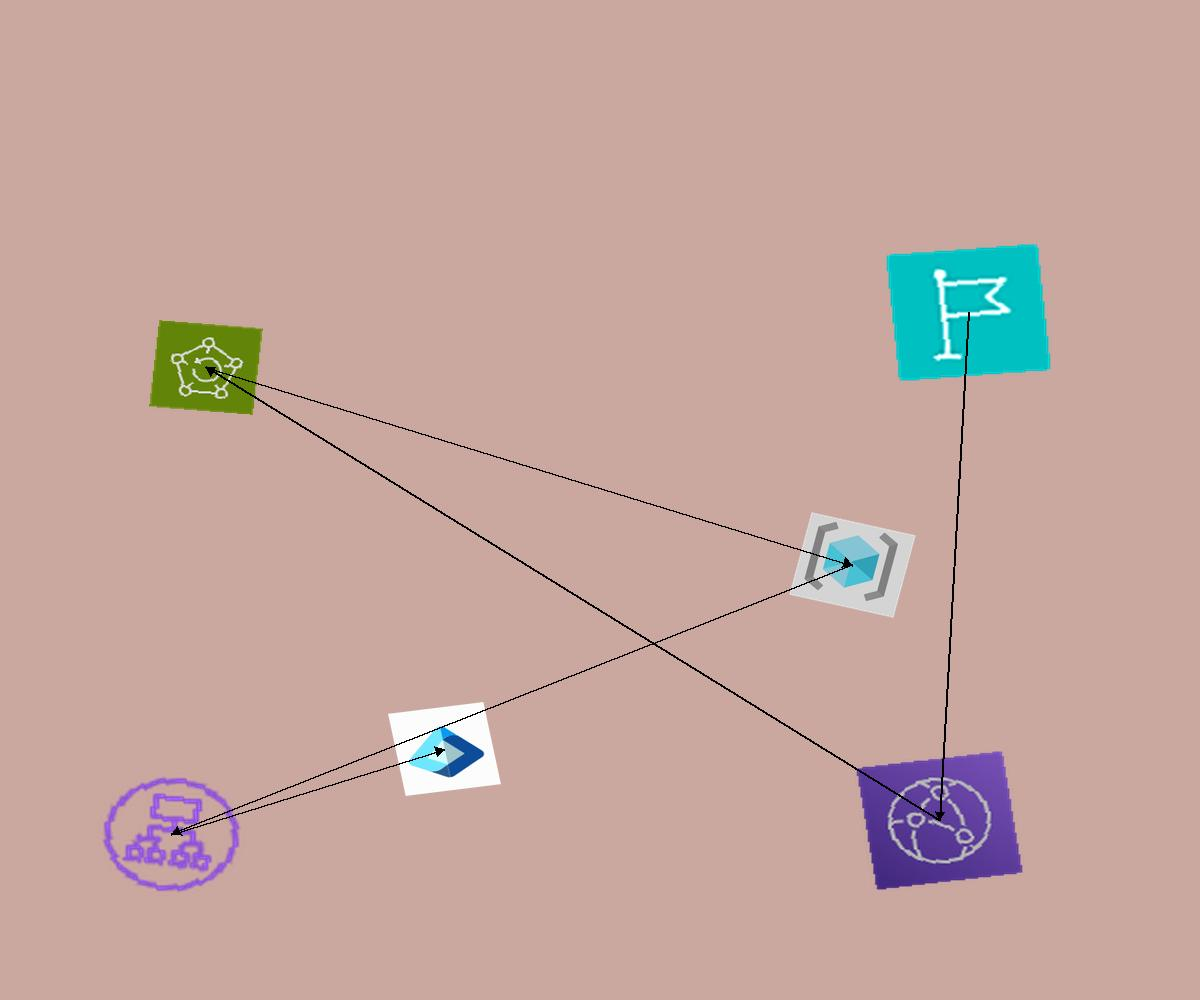AWS-Backup: (149, 320, 263, 415)
AWS-CloudFront: (855, 750, 1024, 891)
AWS-Region: (885, 243, 1052, 382)
AWS-Res_Elastic-Load-Balancing_Application-Load-Balancer: (86, 763, 257, 906)
Azure_microsoft_entra: (388, 702, 501, 796)
Azure_resource_group: (789, 512, 916, 618)
